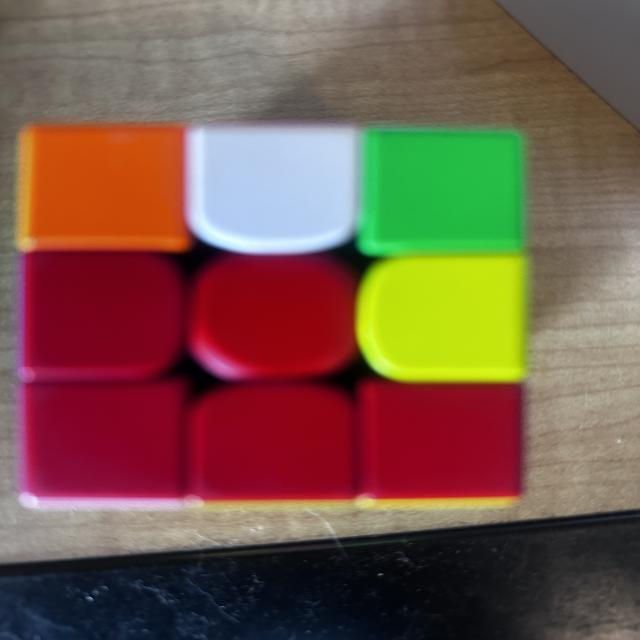sticker: (14, 122, 196, 256), (188, 124, 363, 257), (19, 377, 192, 511), (17, 250, 188, 383), (355, 255, 531, 383), (358, 129, 526, 260), (187, 254, 361, 380), (186, 382, 360, 506), (359, 378, 522, 508)
